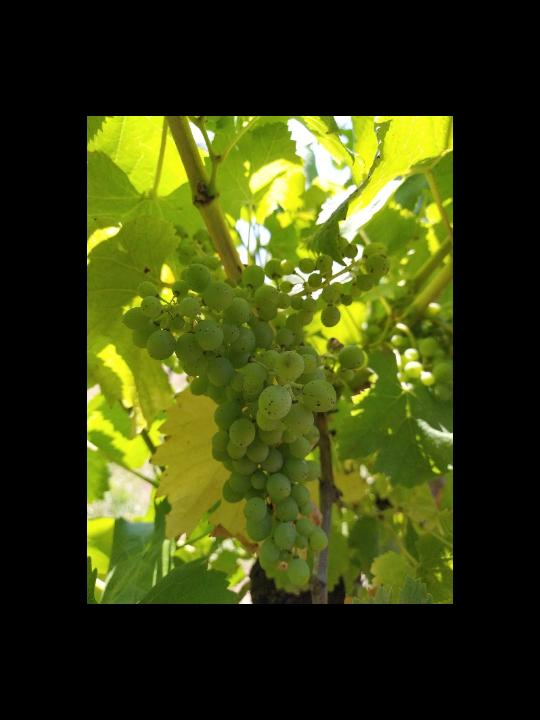grape: (120, 237, 391, 589)
